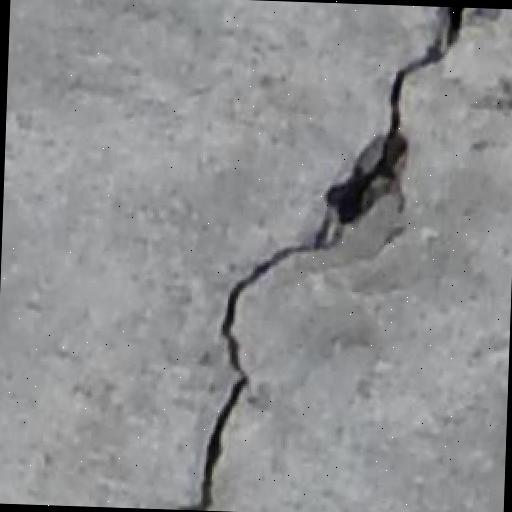spalling: (178, 10, 479, 510)
